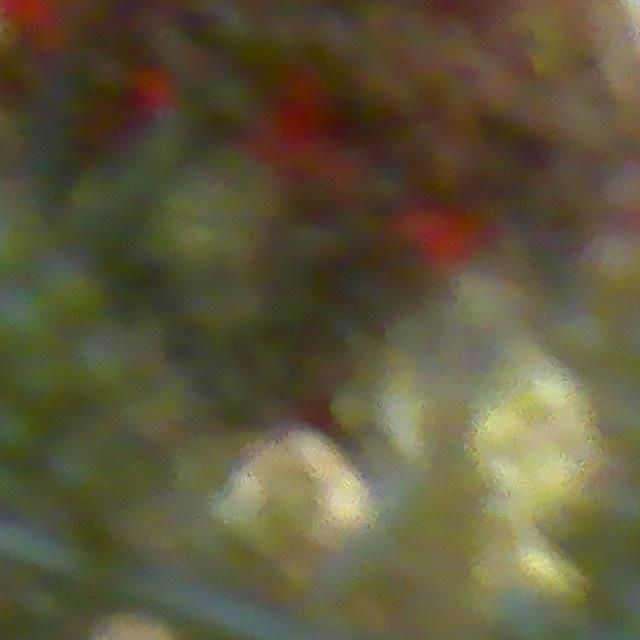SeaGrape: (0, 284, 53, 355), (0, 399, 38, 465)
